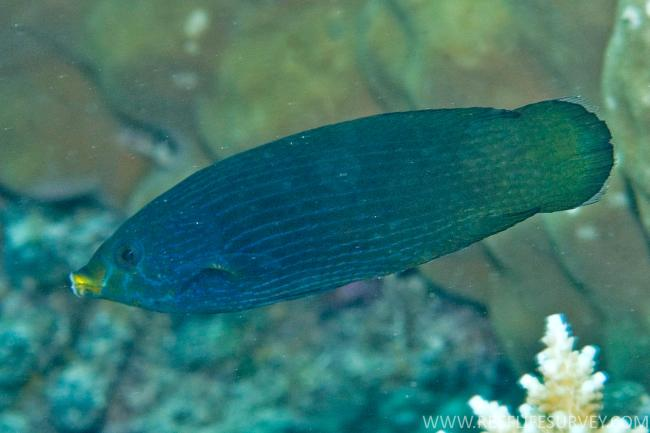fish: (69, 96, 617, 316)
